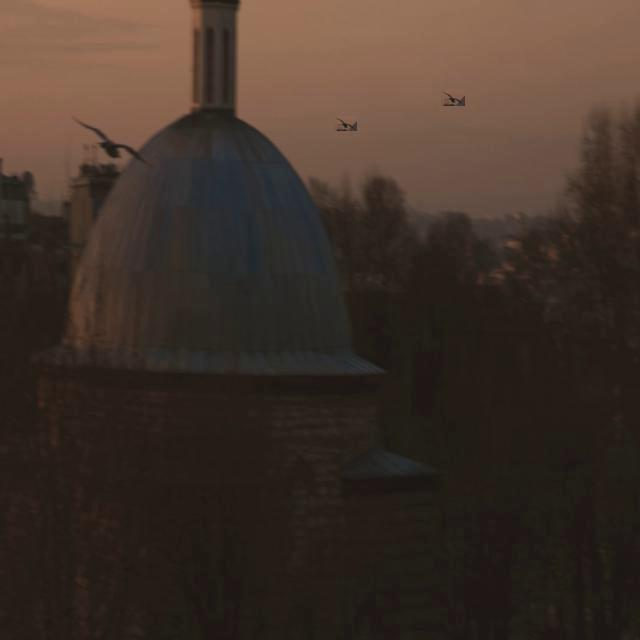bird: (72, 117, 158, 171), (336, 117, 360, 135), (442, 89, 466, 105)
